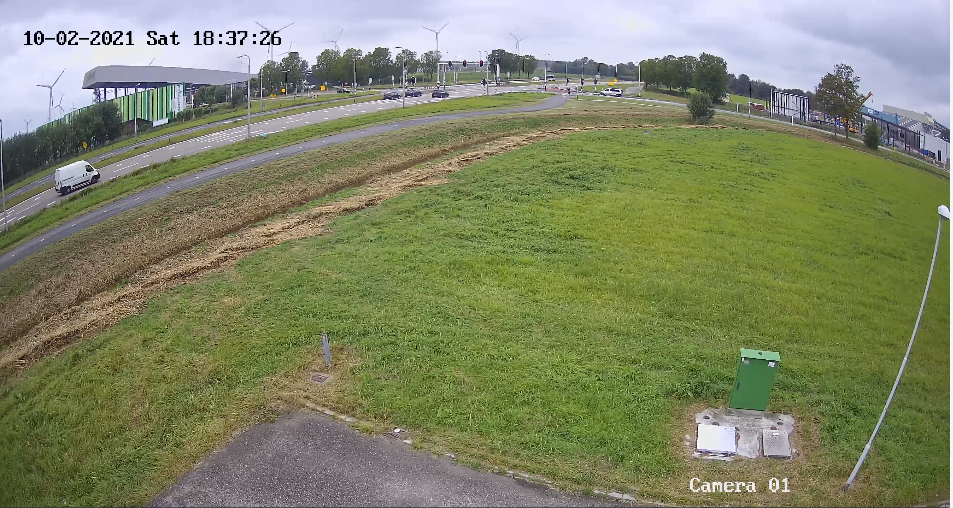werkbus: (42, 144, 106, 209)
